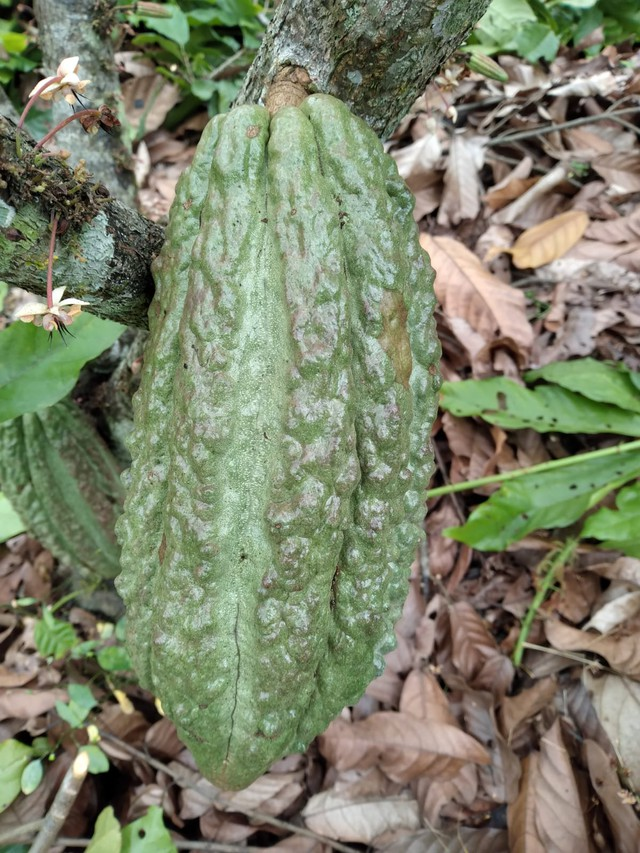Health: (103, 80, 454, 794)
